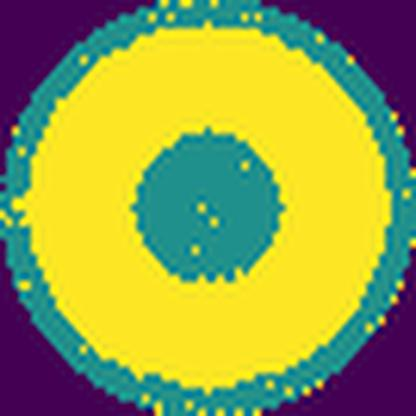Donut: (22, 20, 402, 396)
